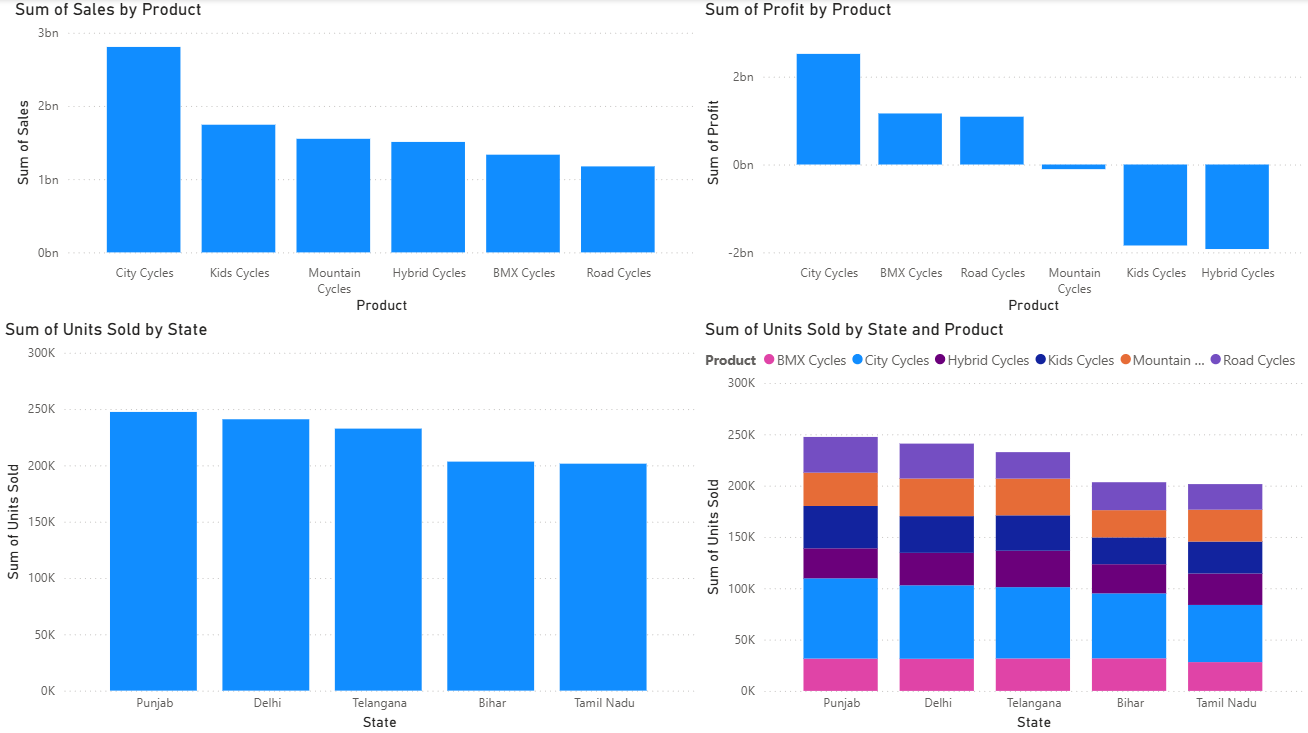

The page's visual inventory and layout, read from the dashboard file:
{"tool":"powerbi","page":{"name":"Stacked Column Charts","canvas":[1280,720],"ordinal":0},"visuals":[{"type":"columnChart","fields":{"Category":["Bicycle Sales.Product"],"Y":["Sum(Bicycle Sales.Sales)"]},"box":[9.6,0,675.1,312.9],"z":0},{"type":"columnChart","fields":{"Category":["Bicycle Sales.Product"],"Y":["Sum(Bicycle Sales.Profit)"]},"box":[684.7,0,595.5,312.9],"z":1000},{"type":"columnChart","fields":{"Category":["Bicycle Sales.State"],"Y":["Sum(Bicycle Sales.Units Sold)"]},"box":[0,312.9,684.7,407.5],"z":2000},{"type":"columnChart","fields":{"Category":["Bicycle Sales.State"],"Series":["Bicycle Sales.Product"],"Y":["Sum(Bicycle Sales.Units Sold)"]},"box":[684.7,312.9,595.5,407.5],"z":2001}]}

Visuals, with their boxes in screenshot pixels (x1, y1, x2, y2), scaled from the page's 1280x720 canvas onto the 1308x733 screenshot:
columnChart - Bicycle Sales.Product x Sum(Bicycle Sales.Sales): (10, 0, 700, 319)
columnChart - Bicycle Sales.Product x Sum(Bicycle Sales.Profit): (700, 0, 1307, 319)
columnChart - Bicycle Sales.State x Sum(Bicycle Sales.Units Sold): (0, 319, 700, 732)
columnChart - Bicycle Sales.State x Bicycle Sales.Product: (700, 319, 1307, 732)
